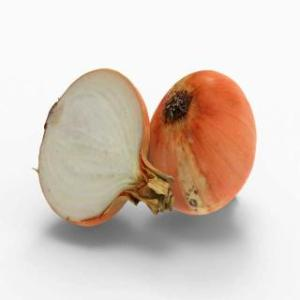onion: (34, 68, 174, 228), (148, 66, 258, 215)
